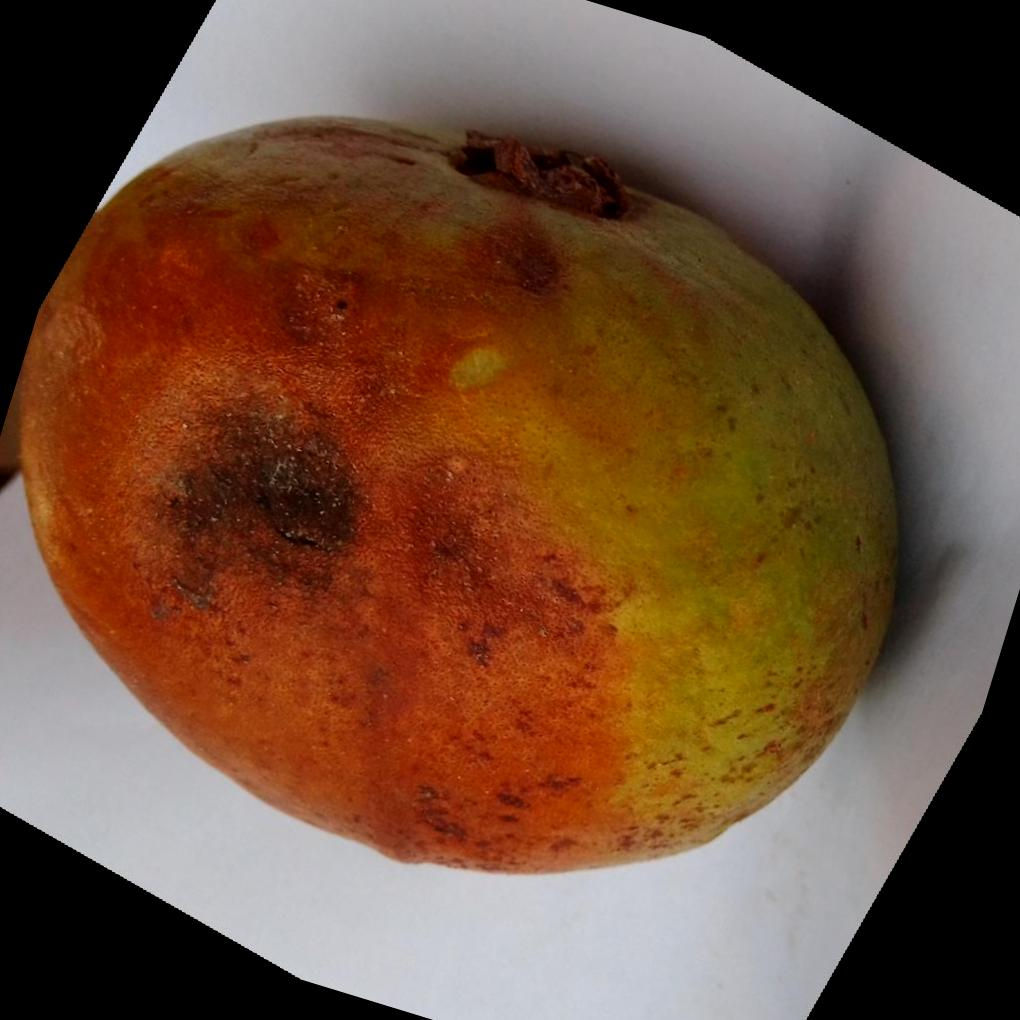FreshOrange: (11, 116, 902, 879)
